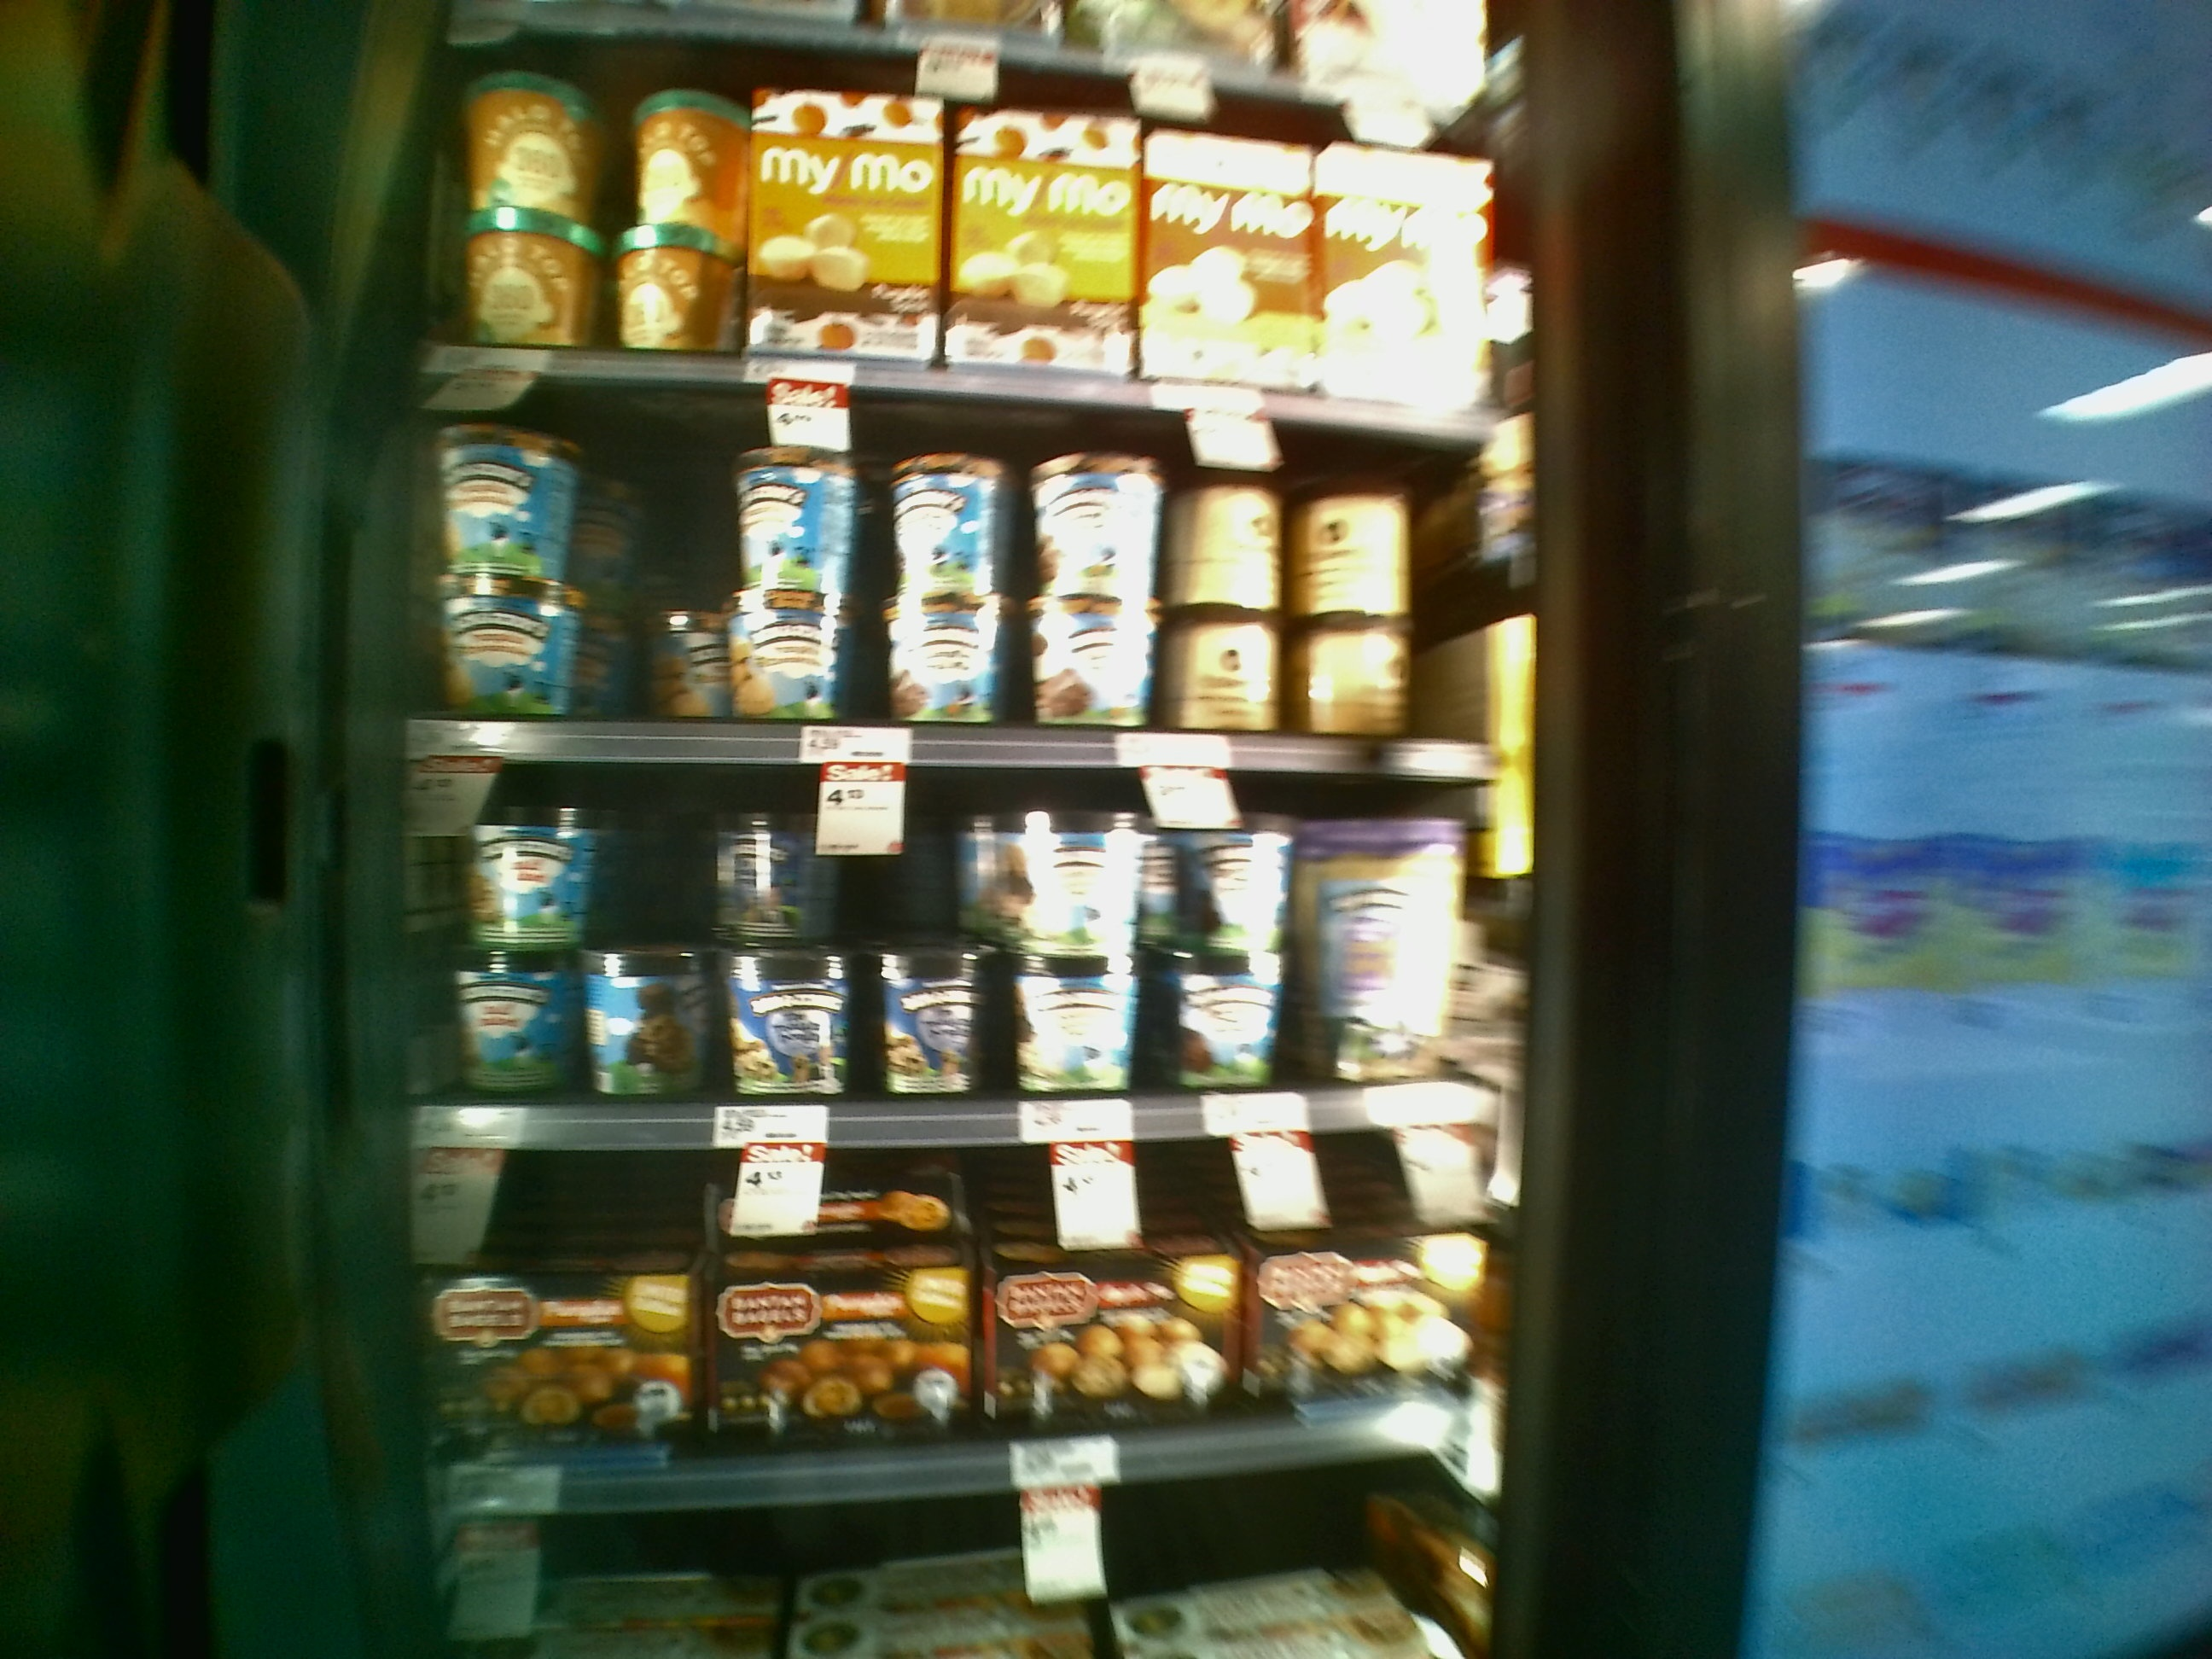shelf: (408, 364, 1522, 786), (380, 727, 1507, 1117), (404, 1101, 1479, 1485)
